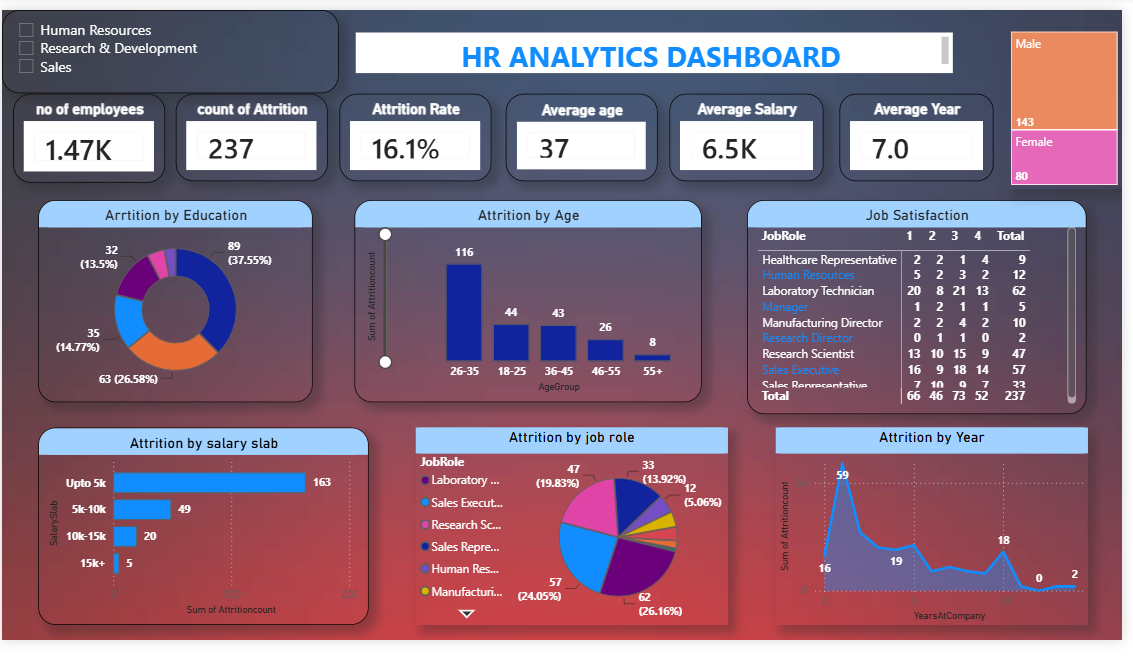

Layout of this report page (visuals, bound fields, positions):
{"tool":"powerbi","page":{"name":"Page 1","canvas":[1280,720],"ordinal":0},"visuals":[{"type":"cardVisual","title":"no of employees","fields":{"Data":["CountNonNull(HR_Analytics.EmpID)"]},"box":[12.5,95,173.8,101.2],"z":0},{"type":"cardVisual","title":"count of Attrition ","fields":{"Data":["Sum(HR_Analytics.Attritioncount)"]},"box":[198.8,95,173.8,100],"z":1000},{"type":"cardVisual","title":"Attrition Rate","fields":{"Data":["HR_Analytics.Attrition Rate"]},"box":[385,95,173.8,100],"z":2000},{"type":"cardVisual","title":"Average age ","fields":{"Data":["Avg(HR_Analytics.Age)"]},"box":[576.2,95,173.8,100],"z":3000},{"type":"cardVisual","title":"Average Salary","fields":{"Data":["Avg(HR_Analytics.MonthlyIncome)"]},"box":[762.5,95,176.2,100],"z":4000},{"type":"cardVisual","title":"Average Year","fields":{"Data":["Avg(HR_Analytics.YearsAtCompany)"]},"box":[957.5,95,176.2,100],"z":5000},{"type":"donutChart","title":"Arrtition by Education","fields":{"Category":["HR_Analytics.EducationField"],"Y":["Sum(HR_Analytics.Attritioncount)"]},"box":[41.4,217.2,313.8,231],"z":6000},{"type":"clusteredColumnChart","title":"Attrition  by Age","fields":{"Category":["HR_Analytics.AgeGroup"],"Y":["Sum(HR_Analytics.Attritioncount)"]},"box":[403.4,217.2,396.6,231],"z":7000},{"type":"pivotTable","title":"Job Satisfaction ","fields":{"Rows":["HR_Analytics.JobRole"],"Columns":["HR_Analytics.JobSatisfaction"],"Values":["Sum(HR_Analytics.Attritioncount)"]},"box":[851.7,217.2,387.9,244.8],"z":8000},{"type":"barChart","title":" Attrition by salary slab","fields":{"Category":["HR_Analytics.SalarySlab"],"Y":["Sum(HR_Analytics.Attritioncount)"]},"box":[41.4,477.6,377.6,225.9],"z":9000},{"type":"pieChart","title":" Attrition by job role","fields":{"Y":["Sum(HR_Analytics.Attritioncount)"],"Category":["HR_Analytics.JobRole"]},"box":[472.4,477.6,356.9,225.9],"z":10000},{"type":"areaChart","title":" Attrition by Year","fields":{"Y":["Sum(HR_Analytics.Attritioncount)"],"Category":["HR_Analytics.YearsAtCompany"]},"box":[884.5,477.6,356.9,225.9],"z":11000},{"type":"treemap","title":" Attrition by job role","fields":{"Group":["HR_Analytics.Gender"],"Values":["Sum(HR_Analytics.Attritioncount)"]},"box":[1148.8,20,131.2,185],"z":12000},{"type":"slicer","title":" Attrition by job role","fields":{"Values":["HR_Analytics.Department"]},"box":[0,0,385,95],"z":13000},{"type":"textbox","box":[403.8,25,682.5,46.2],"z":14000}]}

Visuals, with their boxes on the page's 1280x720 design canvas (x1, y1, x2, y2). These are canvas units, not pixel positions in the 1133x658 screenshot, which may show the page scaled, cropped or inside an application window:
"no of employees" cardVisual: (left=12, top=95, right=186, bottom=196)
"count of Attrition " cardVisual: (left=199, top=95, right=373, bottom=195)
"Attrition Rate" cardVisual: (left=385, top=95, right=559, bottom=195)
"Average age " cardVisual: (left=576, top=95, right=750, bottom=195)
"Average Salary" cardVisual: (left=762, top=95, right=939, bottom=195)
"Average Year" cardVisual: (left=958, top=95, right=1134, bottom=195)
"Arrtition by Education" donutChart: (left=41, top=217, right=355, bottom=448)
"Attrition  by Age" clusteredColumnChart: (left=403, top=217, right=800, bottom=448)
"Job Satisfaction " pivotTable: (left=852, top=217, right=1240, bottom=462)
" Attrition by salary slab" barChart: (left=41, top=478, right=419, bottom=704)
" Attrition by job role" pieChart: (left=472, top=478, right=829, bottom=704)
" Attrition by Year" areaChart: (left=884, top=478, right=1241, bottom=704)
" Attrition by job role" treemap: (left=1149, top=20, right=1280, bottom=205)
" Attrition by job role" slicer: (left=0, top=0, right=385, bottom=95)
textbox: (left=404, top=25, right=1086, bottom=71)
